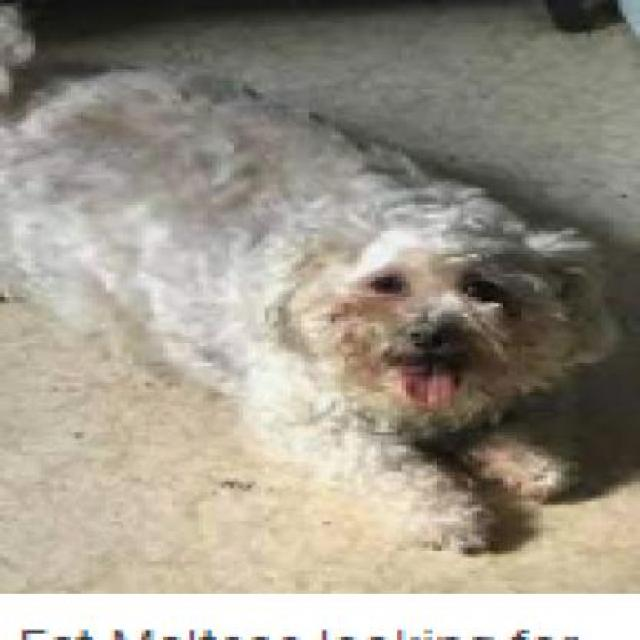Dog: (0, 1, 626, 557)
